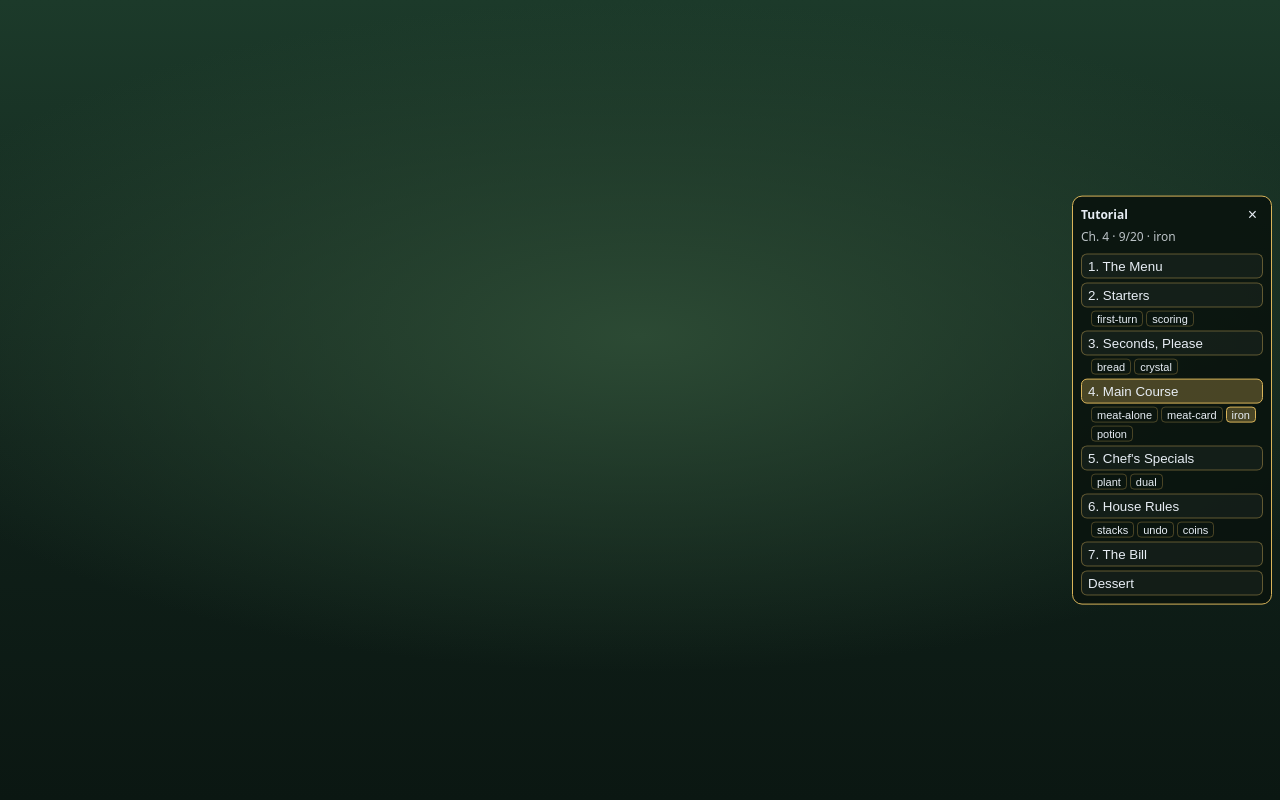
TutorialDebug › says where the tutorial is, and folds away
Expected: the text "Ch. 4 · 9/20 · iron" is shown, [1081, 228, 1176, 245]
Click the button named "Fold the debug panel": [1252, 215] box [1242, 205, 1263, 225]
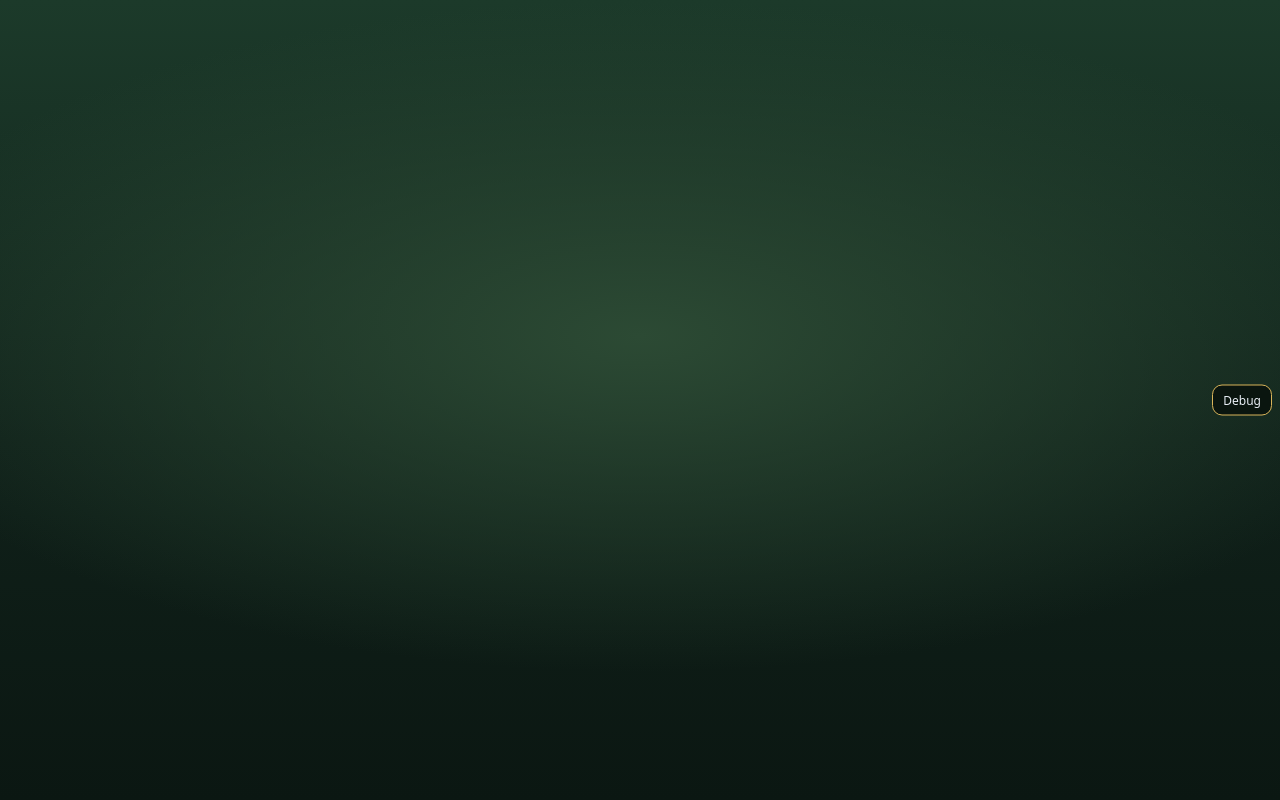
Expected: the button "Debug" is shown, [1212, 384, 1272, 416]
